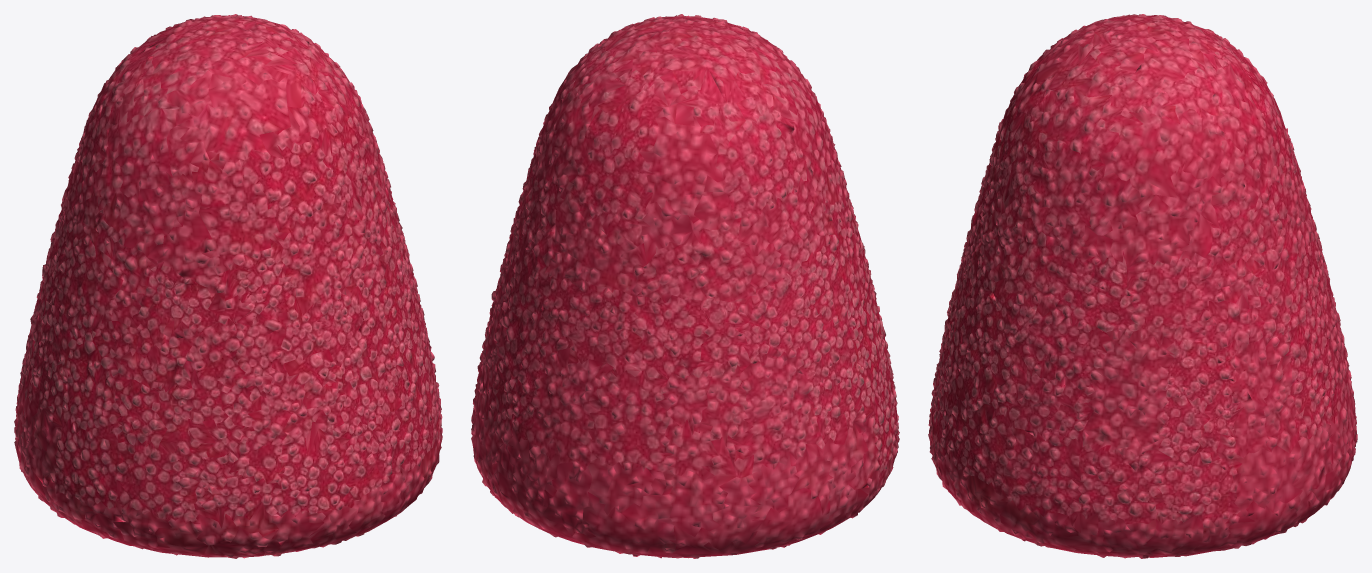
3 renders of one model, left to right at view 1: azimuth 30°, elevation 25°; view 2: azimuth 150°, elevation 25°; view 3: azimuth 270°, elevation 25°, orthographic.
Bounding box in the file's own units: 1.64 × 1.9 × 1.64.
Materials: 1 (1 with a texture image).
